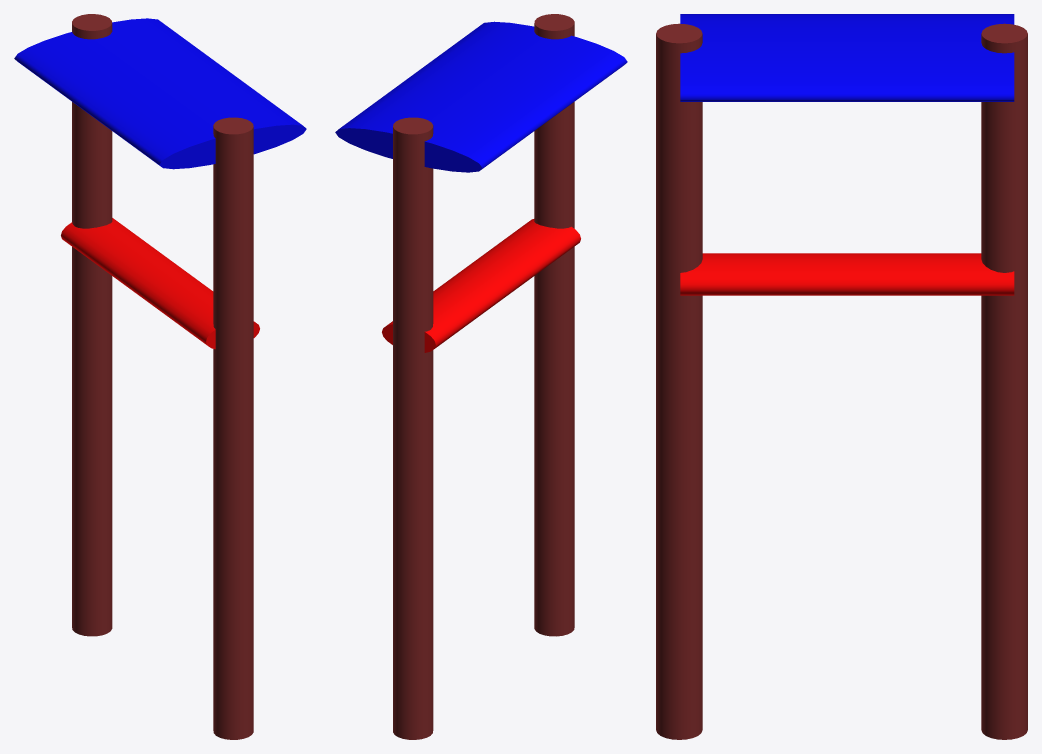
Rendered from Bench.obj.
The picture shows the model from 3 angles, left to right: view 1: azimuth 30°, elevation 25°; view 2: azimuth 150°, elevation 25°; view 3: azimuth 270°, elevation 25°; orthographic projection. The views are drawn at different scales.
Visible parts, largest first — view 1: pCylinder8; view 2: pCylinder8; view 3: pCylinder8.
Boxes of the visible parts, box(x1,y1,x2,y2) form: pCylinder8: box(14, 14, 306, 739); pCylinder8: box(335, 14, 627, 739); pCylinder8: box(656, 14, 1027, 739).
Bounding box in the file's own units: 0.4446 × 1.74 × 0.8431.
